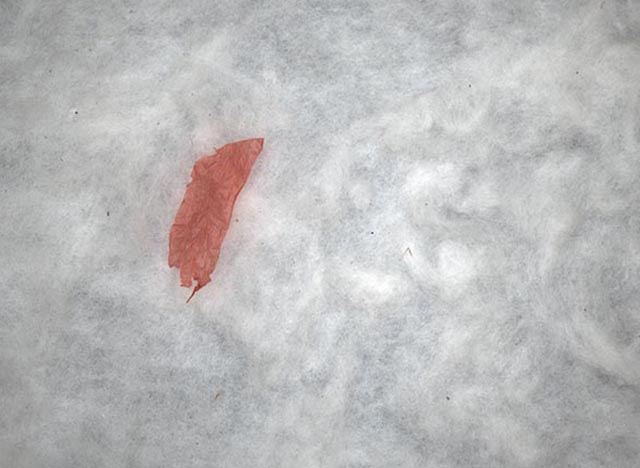plastic film: (167, 137, 264, 304)
